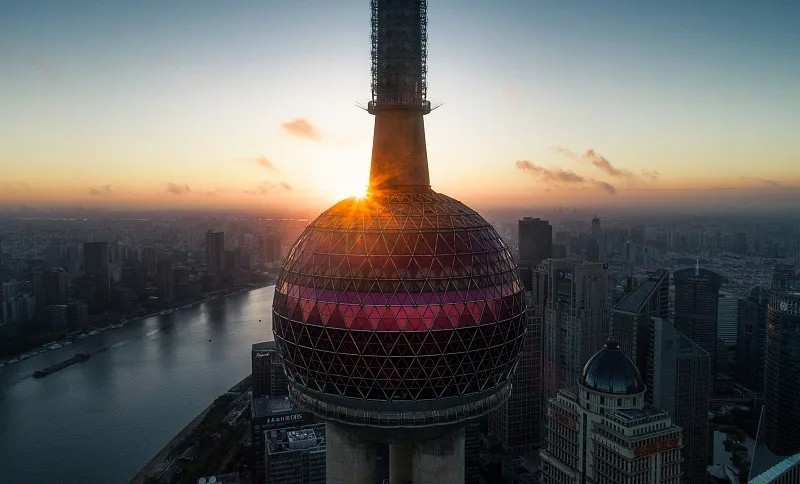Oriental: (272, 1, 529, 484)
